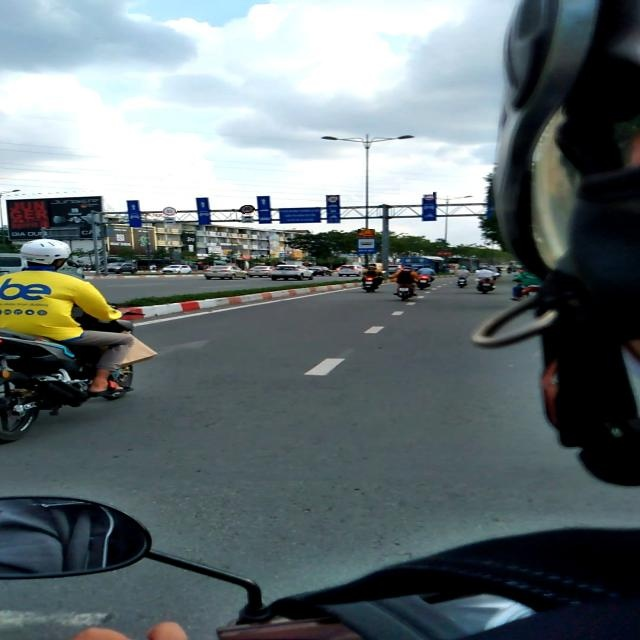bien_chi_dan: (400, 184, 433, 198), (357, 239, 376, 253), (239, 205, 255, 215), (358, 230, 375, 238), (162, 207, 177, 216), (327, 195, 339, 203)
